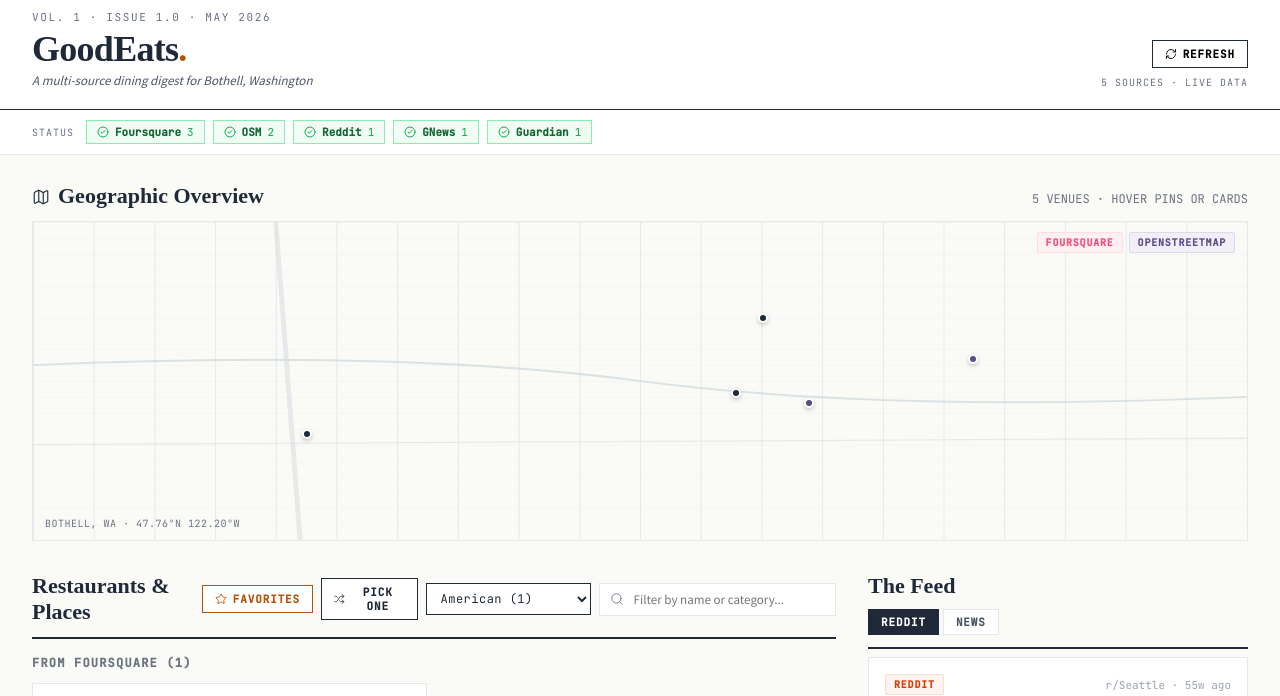
Scenario: GoodEats App — search filter › restores all results when search is cleared
Type "italian" into the field with placeholder "Filter by name or category...".
click(728, 599); type("italian")  # box [632,590,825,608]
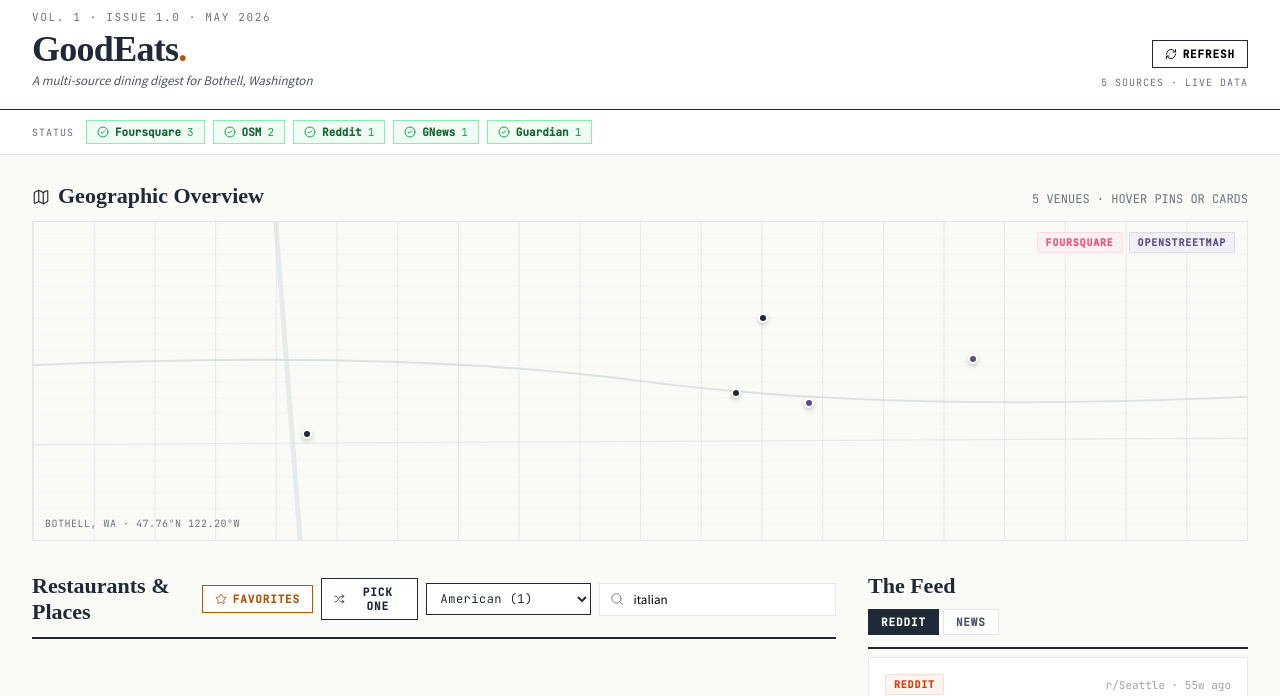
Clear the field with placeholder "Filter by name or category..." at x=728, y=599, box [632,590,825,608]
(page scrolled)
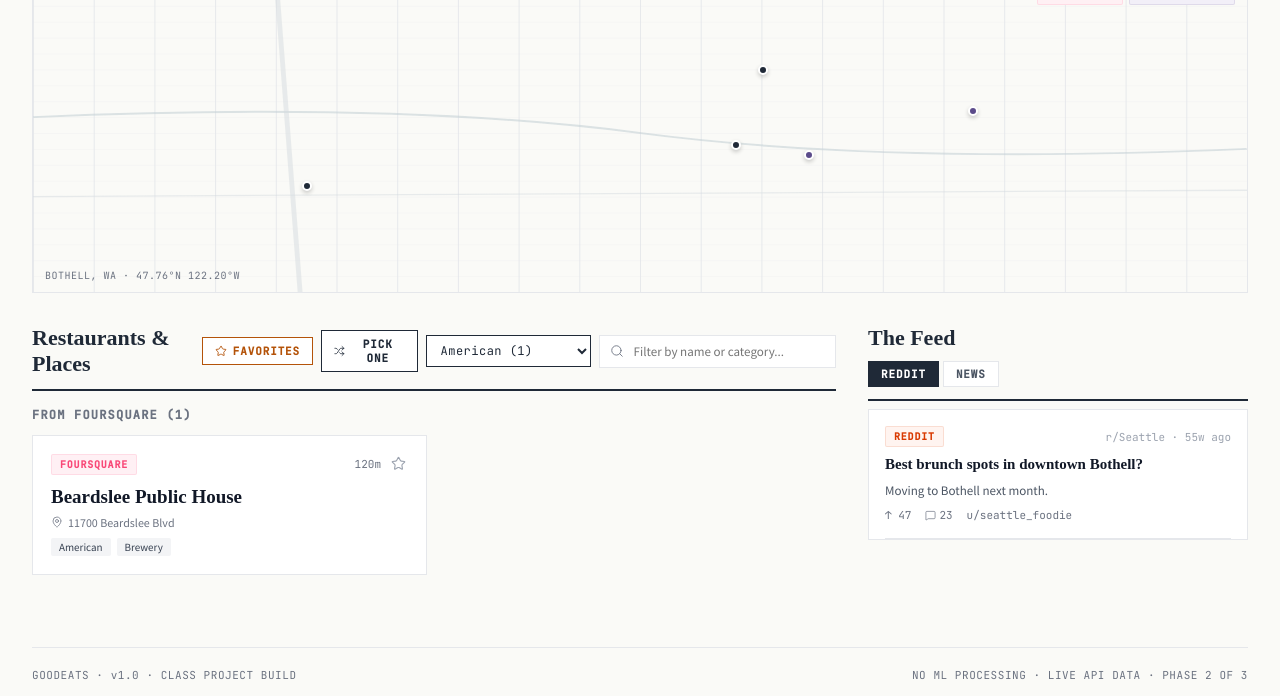
Now the heading "Beardslee Public House" is shown, box [51,486,242,507]
